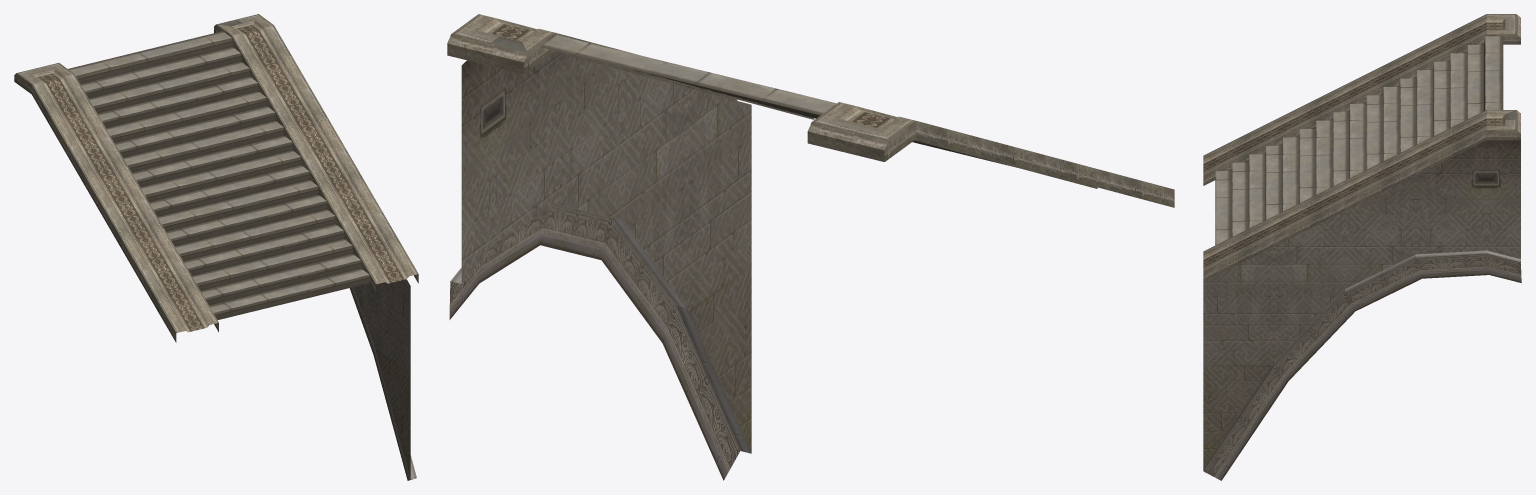
File: cj_luoyang_qiao06_55_43_5909out.fbx
3 renders of one model, left to right at view 1: azimuth 30°, elevation 25°; view 2: azimuth 150°, elevation 25°; view 3: azimuth 270°, elevation 25°, orthographic. The views are drawn at different scales.
Parts seen in each view (by area): view 1: 0001_cj_luoyang_qiao06, 0000_cj_luoyang_qiao06; view 2: 0000_cj_luoyang_qiao06, 0001_cj_luoyang_qiao06; view 3: 0000_cj_luoyang_qiao06, 0001_cj_luoyang_qiao06.
Part boxes in pixels (x1=…): 0001_cj_luoyang_qiao06: x1=68, y1=31, x2=369, y2=319; 0000_cj_luoyang_qiao06: x1=14, y1=14, x2=418, y2=480; 0000_cj_luoyang_qiao06: x1=447, y1=14, x2=1174, y2=480; 0001_cj_luoyang_qiao06: x1=541, y1=35, x2=1088, y2=185; 0000_cj_luoyang_qiao06: x1=1203, y1=14, x2=1521, y2=480; 0001_cj_luoyang_qiao06: x1=1215, y1=36, x2=1503, y2=245.
Bounding box in the file's own units: 8.81 × 12.37 × 10.16.
